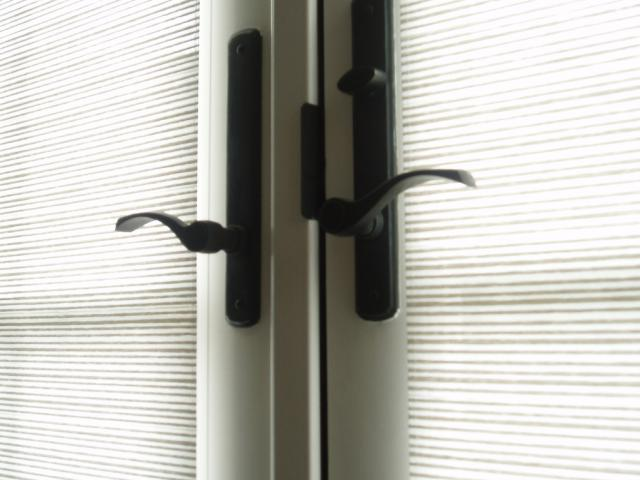Door-handle: (312, 0, 473, 323), (112, 31, 266, 326)
